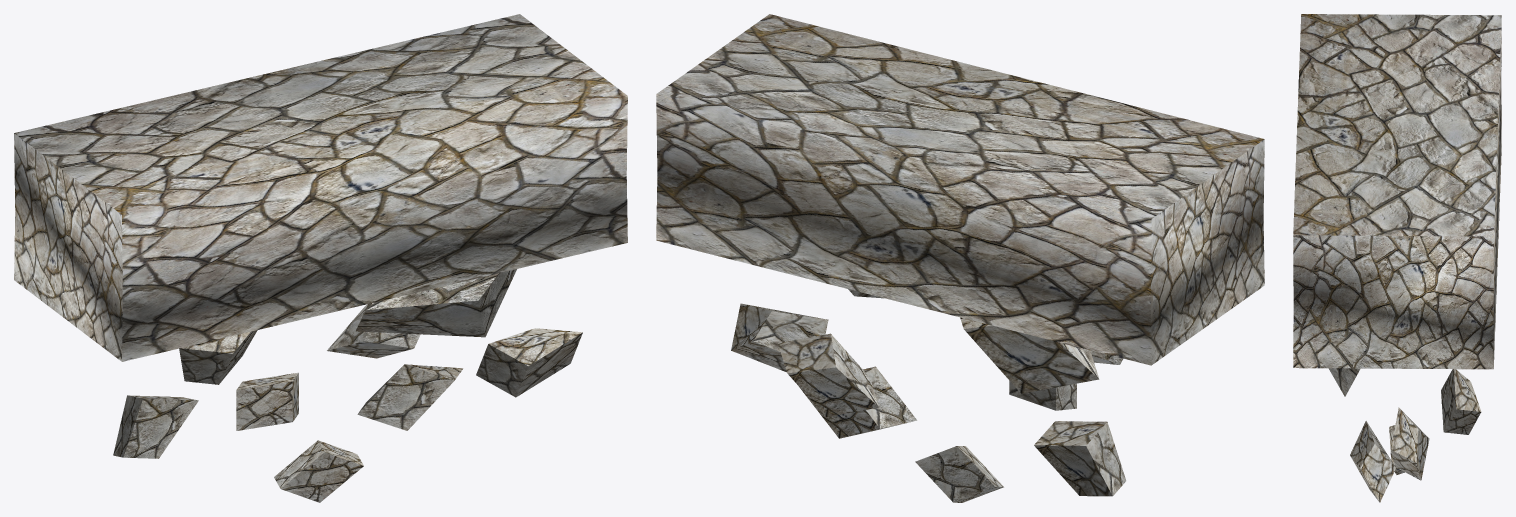
The model's file is spinningBlocks.fbx.
3 views of the same model, side by side, from view 1: azimuth 30°, elevation 25°; view 2: azimuth 150°, elevation 25°; view 3: azimuth 270°, elevation 25° (orthographic). The views are drawn at different scales.
Parts seen in each view (by area): view 1: polySurface368; view 2: polySurface368; view 3: polySurface368.
Part boxes in pixels (left/top/right/bottom): polySurface368: left=14, top=14, right=627, bottom=502; polySurface368: left=656, top=14, right=1264, bottom=502; polySurface368: left=1293, top=14, right=1501, bottom=502.
Size of the model in its own units: 8.47 by 6.23 by 3.36.
Materials: 1 (1 with a texture image).
